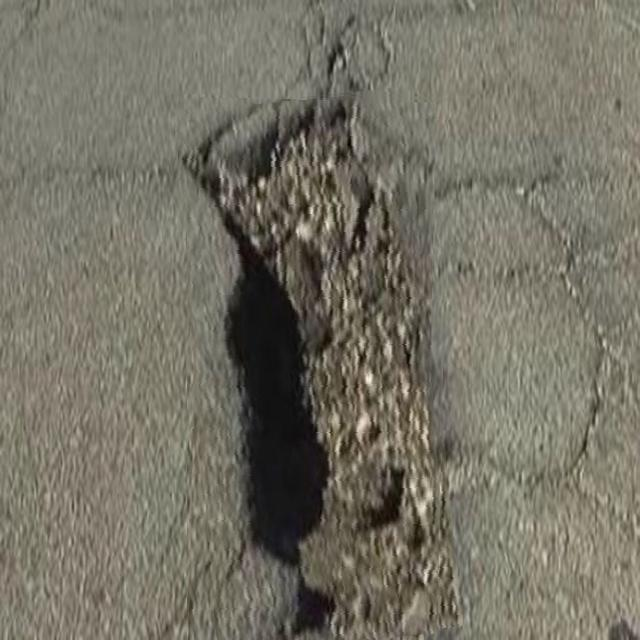Pothole: (187, 91, 449, 640)
